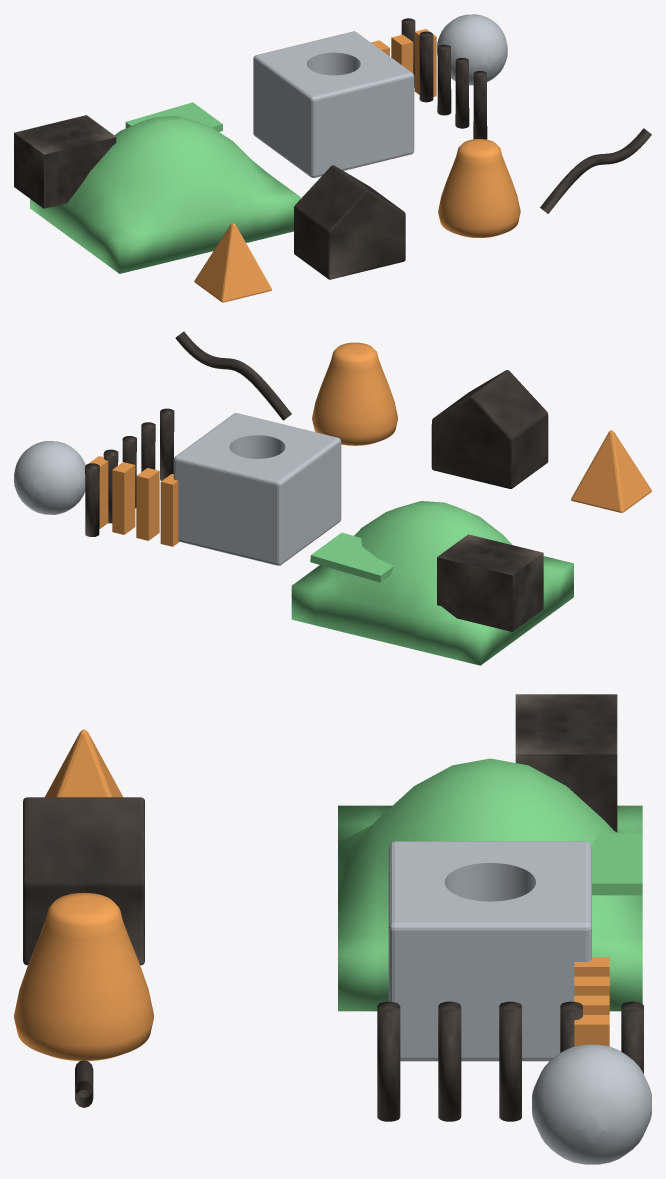
The model's file is asset.glb.
3 views of the same model, one above another, from view 1: azimuth 30°, elevation 25°; view 2: azimuth 150°, elevation 25°; view 3: azimuth 270°, elevation 25° (orthographic). The views are drawn at different scales.
Visible parts, largest first — view 1: demo.terrain__LOD0, demo.boolean.block__LOD0, demo.profile_house__LOD0, demo.modifier_mirror__LOD0, demo.revolve_vase__LOD0, demo.custom_pyramid__LOD0, CBM_demo_instance_post__LOD0__BATCH0003, demo.modifier_remesh__LOD0, CBM_demo_instance_post__LOD1__BATCH0001, demo.curve_pipe__LOD0, demo.modifier_array__LOD0, CBM_demo_instance_post__LOD2__BATCH0002 (+1 smaller); view 2: demo.terrain__LOD0, demo.boolean.block__LOD0, demo.profile_house__LOD0, demo.modifier_mirror__LOD0, demo.revolve_vase__LOD0, demo.modifier_array__LOD0, demo.modifier_remesh__LOD0, demo.custom_pyramid__LOD0, CBM_demo_instance_post__LOD0__BATCH0003, demo.modifier_solidify__LOD0, CBM_demo_instance_post__LOD1__BATCH0001, demo.curve_pipe__LOD0 (+1 smaller); view 3: demo.boolean.block__LOD0, demo.terrain__LOD0, demo.revolve_vase__LOD0, demo.profile_house__LOD0, demo.modifier_remesh__LOD0, demo.modifier_mirror__LOD0, CBM_demo_instance_post__LOD0__BATCH0003, CBM_demo_instance_post__LOD1__BATCH0001, demo.modifier_solidify__LOD0, CBM_demo_instance_post__LOD2__BATCH0002, demo.modifier_array__LOD0, demo.custom_pyramid__LOD0 (+1 smaller).
Boxes of the visible parts, x1=… form: demo.terrain__LOD0: x1=30, y1=116, x2=300, y2=273; demo.boolean.block__LOD0: x1=253, y1=31, x2=414, y2=177; demo.profile_house__LOD0: x1=294, y1=165, x2=405, y2=279; demo.modifier_mirror__LOD0: x1=14, y1=115, x2=116, y2=208; demo.revolve_vase__LOD0: x1=438, y1=139, x2=520, y2=237; demo.custom_pyramid__LOD0: x1=194, y1=223, x2=271, y2=302; CBM_demo_instance_post__LOD0__BATCH0003: x1=401, y1=18, x2=486, y2=139; demo.modifier_remesh__LOD0: x1=437, y1=14, x2=507, y2=85; CBM_demo_instance_post__LOD1__BATCH0001: x1=402, y1=18, x2=486, y2=139; demo.curve_pipe__LOD0: x1=540, y1=128, x2=651, y2=213; demo.modifier_array__LOD0: x1=371, y1=29, x2=436, y2=96; CBM_demo_instance_post__LOD2__BATCH0002: x1=402, y1=19, x2=487, y2=138; demo.terrain__LOD0: x1=291, y1=501, x2=573, y2=665; demo.boolean.block__LOD0: x1=173, y1=413, x2=341, y2=565; demo.profile_house__LOD0: x1=431, y1=370, x2=548, y2=488; demo.modifier_mirror__LOD0: x1=437, y1=534, x2=543, y2=631; demo.revolve_vase__LOD0: x1=312, y1=342, x2=397, y2=445; demo.modifier_array__LOD0: x1=88, y1=456, x2=179, y2=546; demo.modifier_remesh__LOD0: x1=14, y1=441, x2=85, y2=514; demo.custom_pyramid__LOD0: x1=571, y1=430, x2=651, y2=512; CBM_demo_instance_post__LOD0__BATCH0003: x1=85, y1=408, x2=173, y2=536; demo.modifier_solidify__LOD0: x1=310, y1=532, x2=393, y2=582; CBM_demo_instance_post__LOD1__BATCH0001: x1=85, y1=408, x2=173, y2=536; demo.curve_pipe__LOD0: x1=175, y1=331, x2=291, y2=420; demo.boolean.block__LOD0: x1=388, y1=841, x2=591, y2=1061; demo.terrain__LOD0: x1=338, y1=758, x2=642, y2=1011; demo.revolve_vase__LOD0: x1=14, y1=892, x2=153, y2=1060; demo.profile_house__LOD0: x1=23, y1=797, x2=144, y2=965; demo.modifier_remesh__LOD0: x1=532, y1=1044, x2=651, y2=1164; demo.modifier_mirror__LOD0: x1=515, y1=694, x2=617, y2=832; CBM_demo_instance_post__LOD0__BATCH0003: x1=377, y1=1001, x2=643, y2=1121; CBM_demo_instance_post__LOD1__BATCH0001: x1=377, y1=1001, x2=643, y2=1121; demo.modifier_solidify__LOD0: x1=591, y1=833, x2=642, y2=895; CBM_demo_instance_post__LOD2__BATCH0002: x1=377, y1=1002, x2=643, y2=1120; demo.modifier_array__LOD0: x1=574, y1=957, x2=609, y2=1046; demo.custom_pyramid__LOD0: x1=45, y1=729, x2=122, y2=797.
Size of what is drawn, in the model's own units: 18.58 by 4.2 by 12.56.
Materials: 4 (4 with a texture image).
